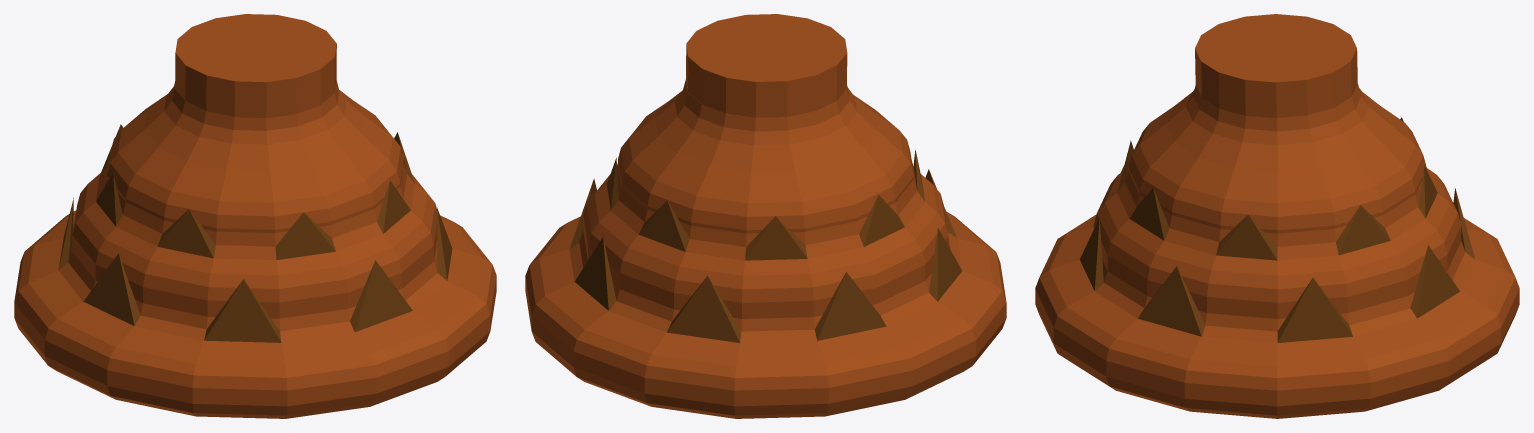
Rendered from agac_kok2.fbx.
The picture shows the model from 3 angles, left to right: view 1: azimuth 30°, elevation 25°; view 2: azimuth 150°, elevation 25°; view 3: azimuth 270°, elevation 25°; orthographic projection.
Parts seen in each view (by area): view 1: Cylinder.022, Cylinder.014, Cylinder.016, Cylinder.023; view 2: Cylinder.022, Cylinder.014, Cylinder.016, Cylinder.023; view 3: Cylinder.022, Cylinder.014, Cylinder.016, Cylinder.023.
Part boxes in pixels (x1,y1,x2,y2): Cylinder.022: (14,80,496,418); Cylinder.014: (175,14,336,118); Cylinder.016: (58,197,452,342); Cylinder.023: (96,124,414,259); Cylinder.022: (525,80,1006,418); Cylinder.014: (686,14,847,117); Cylinder.016: (569,169,961,342); Cylinder.023: (607,149,924,260); Cylinder.022: (1035,83,1519,418); Cylinder.014: (1195,14,1357,118); Cylinder.016: (1079,165,1474,342); Cylinder.023: (1117,117,1437,260).
Bounding box in the file's own units: 9.12 × 6.26 × 9.12.
